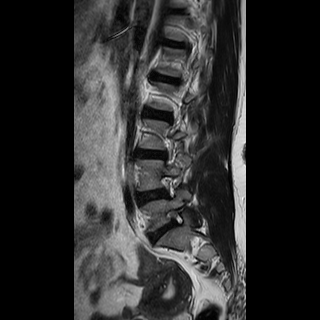RFS0: (154, 172, 183, 204)
RFS1: (162, 202, 188, 231)
